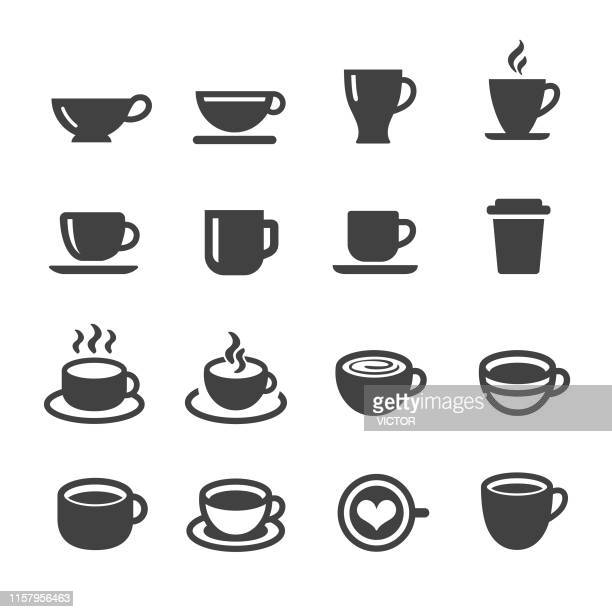cup: (185, 467, 300, 557), (482, 38, 564, 151), (48, 204, 145, 295), (478, 462, 574, 553), (52, 471, 152, 557), (330, 204, 426, 290), (482, 193, 566, 284), (201, 203, 288, 286), (45, 89, 161, 148), (342, 64, 421, 147), (191, 85, 288, 151)
